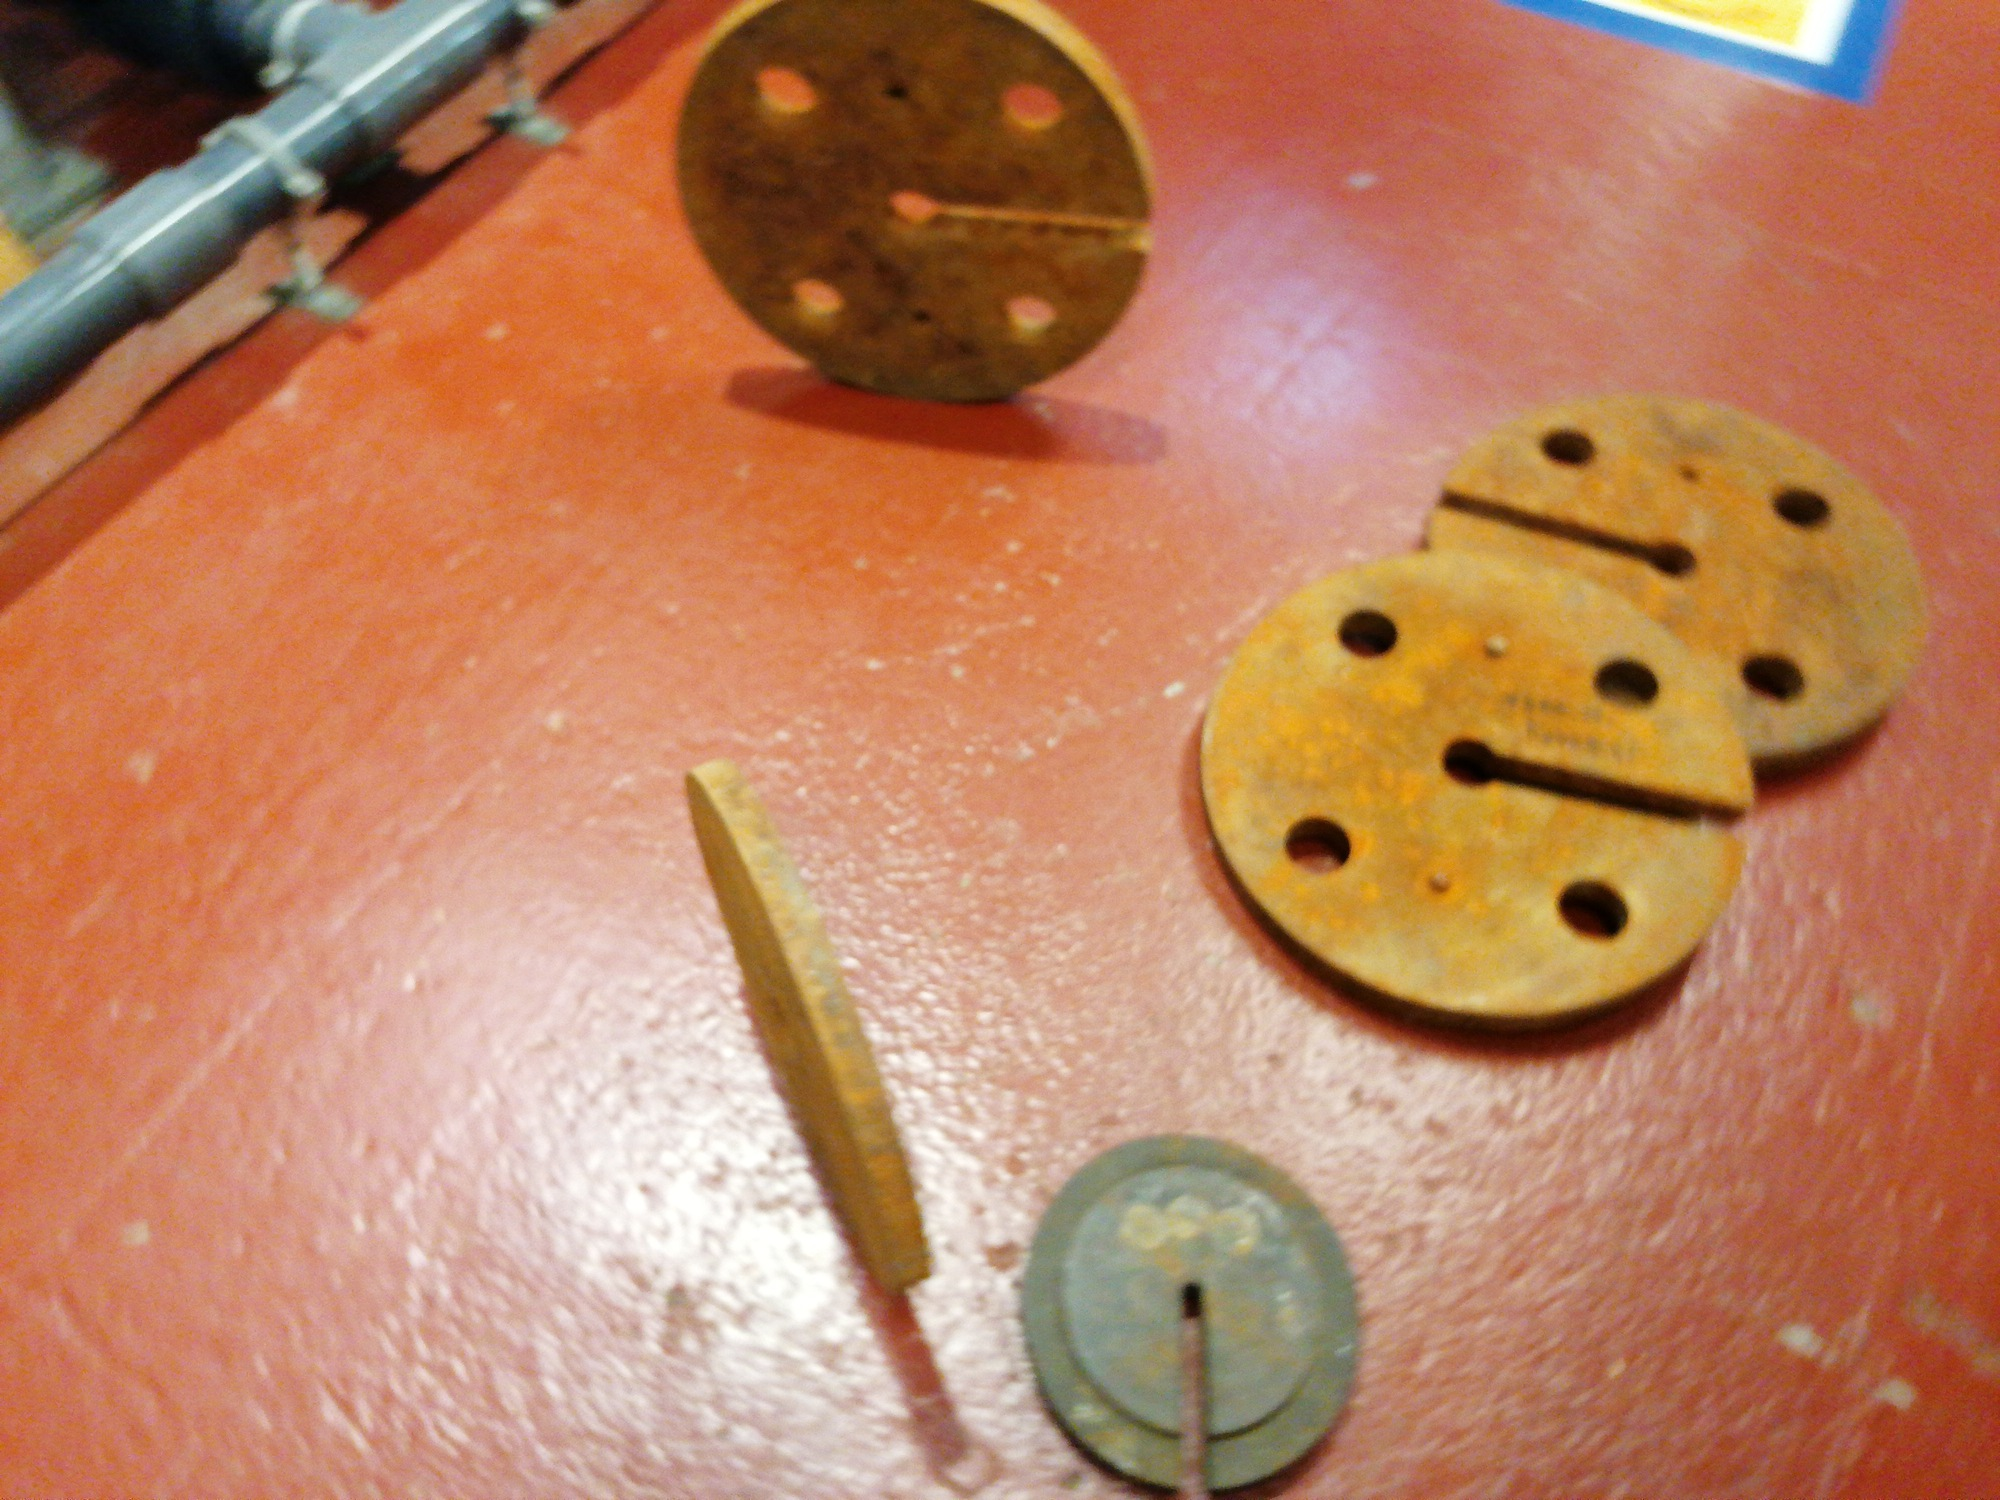flange: (1192, 547, 1757, 1034), (668, 0, 1159, 403), (1422, 392, 1934, 778), (683, 752, 937, 1297), (1017, 1130, 1361, 1498)
